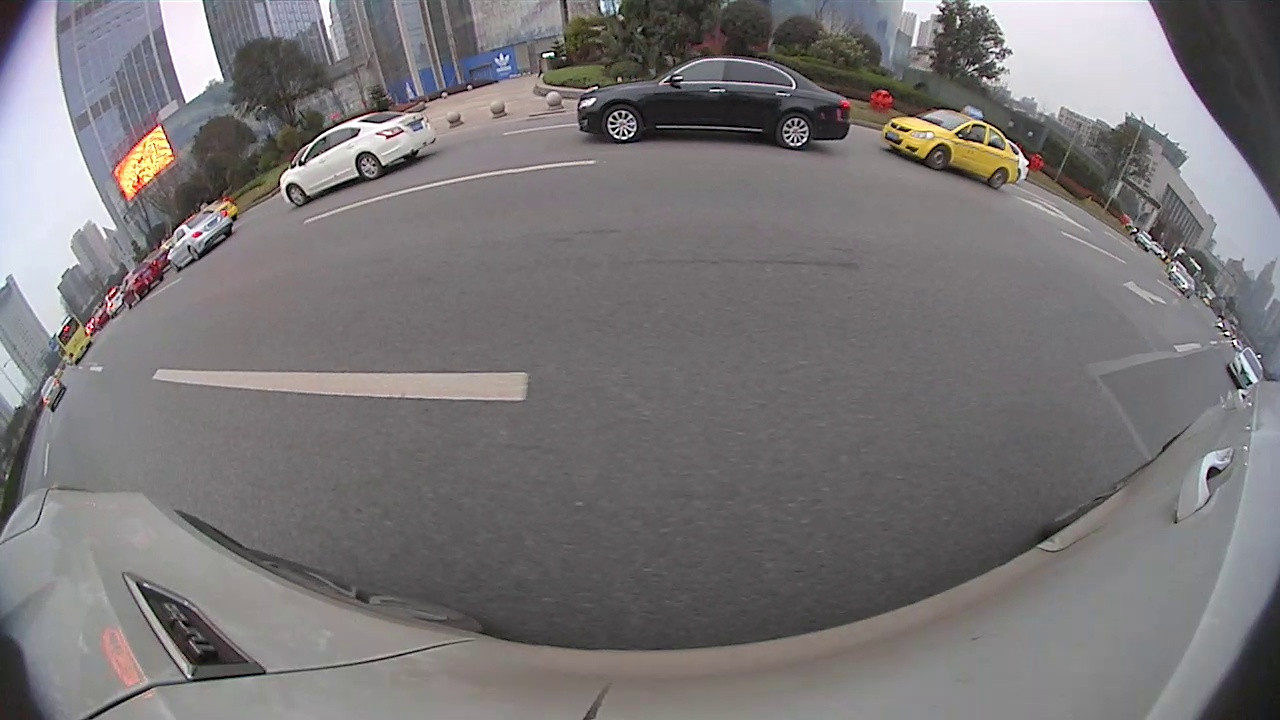bus: (55, 315, 93, 364)
car: (578, 55, 853, 149), (282, 109, 435, 208), (879, 104, 1015, 193), (167, 209, 232, 273), (1000, 139, 1029, 184), (207, 197, 237, 226)
front: (601, 103, 646, 143), (924, 146, 951, 173), (285, 184, 310, 207)
rear: (775, 113, 813, 152), (355, 152, 383, 181), (987, 167, 1009, 192), (187, 243, 202, 262)
